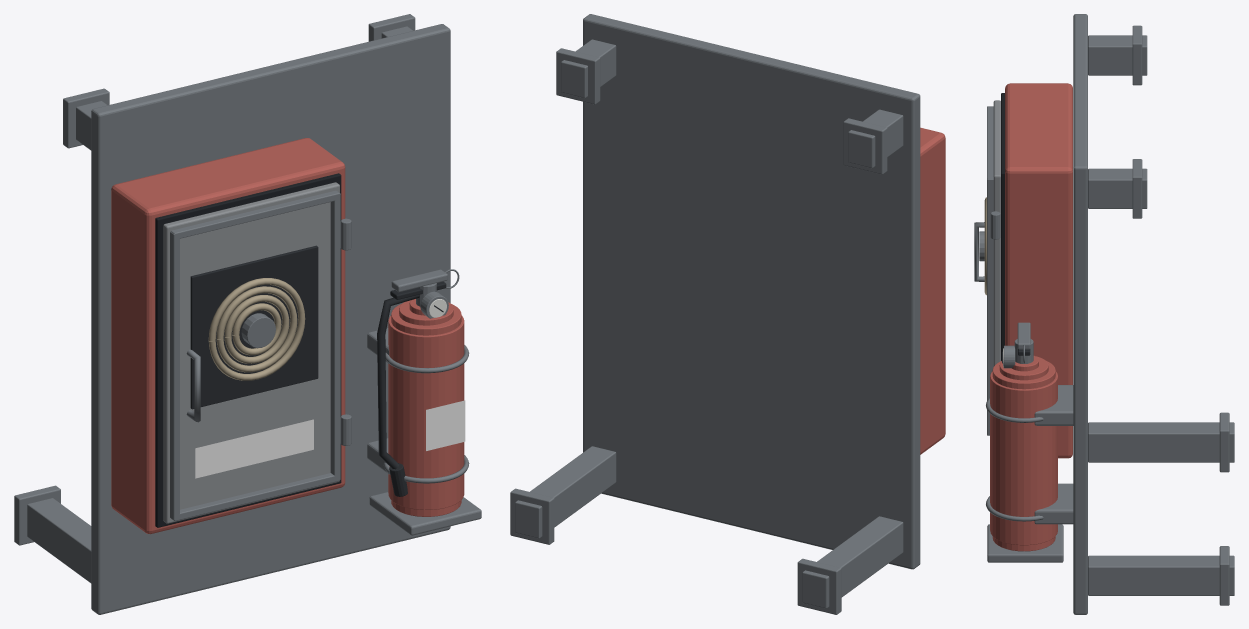
Rendered from BP_WallSafety_R6.fbx.
3 views of the same model, side by side, from view 1: azimuth 30°, elevation 25°; view 2: azimuth 150°, elevation 25°; view 3: azimuth 270°, elevation 25° (orthographic). The views are drawn at different scales.
Parts seen in each view (by area): view 1: BP_WallSafety_R6; view 2: BP_WallSafety_R6; view 3: BP_WallSafety_R6.
Boxes of the visible parts, x1,y1,x2,y2 form: BP_WallSafety_R6: (14,14,481,614); BP_WallSafety_R6: (510,14,945,614); BP_WallSafety_R6: (974,14,1234,614).
Size of the model in its own units: 134 by 182 by 95.78.
